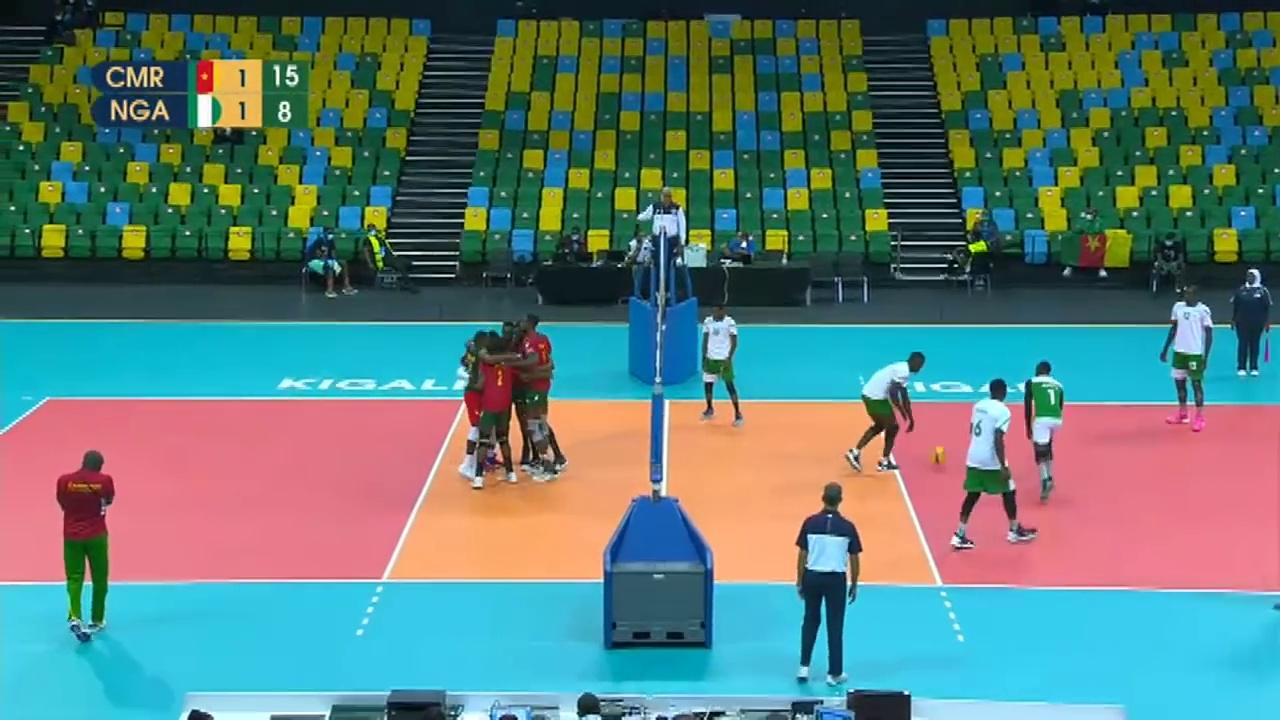player: (951, 375, 1036, 553), (850, 350, 926, 475), (1161, 288, 1219, 433), (521, 312, 566, 486), (1023, 360, 1068, 502), (482, 336, 519, 493), (486, 317, 524, 467), (701, 306, 748, 424), (457, 323, 486, 479)
refree: (790, 480, 864, 678), (639, 179, 687, 295), (1229, 268, 1273, 378)
